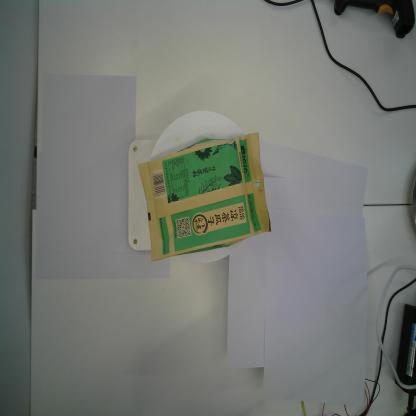Dried Food: (136, 131, 272, 263)
